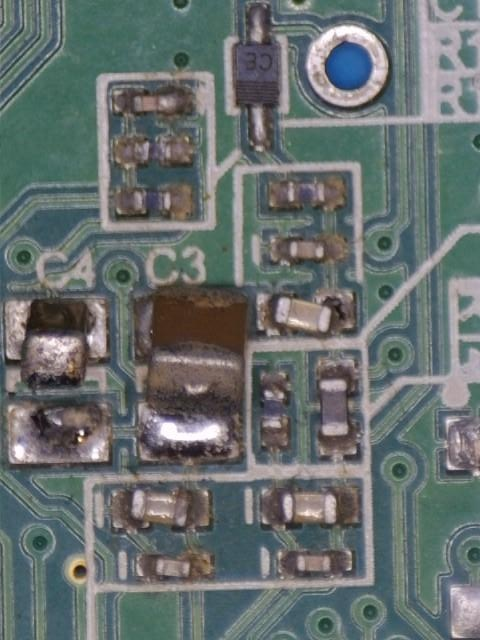pcb_defect: (130, 283, 249, 465), (3, 296, 112, 466), (255, 289, 358, 336)
